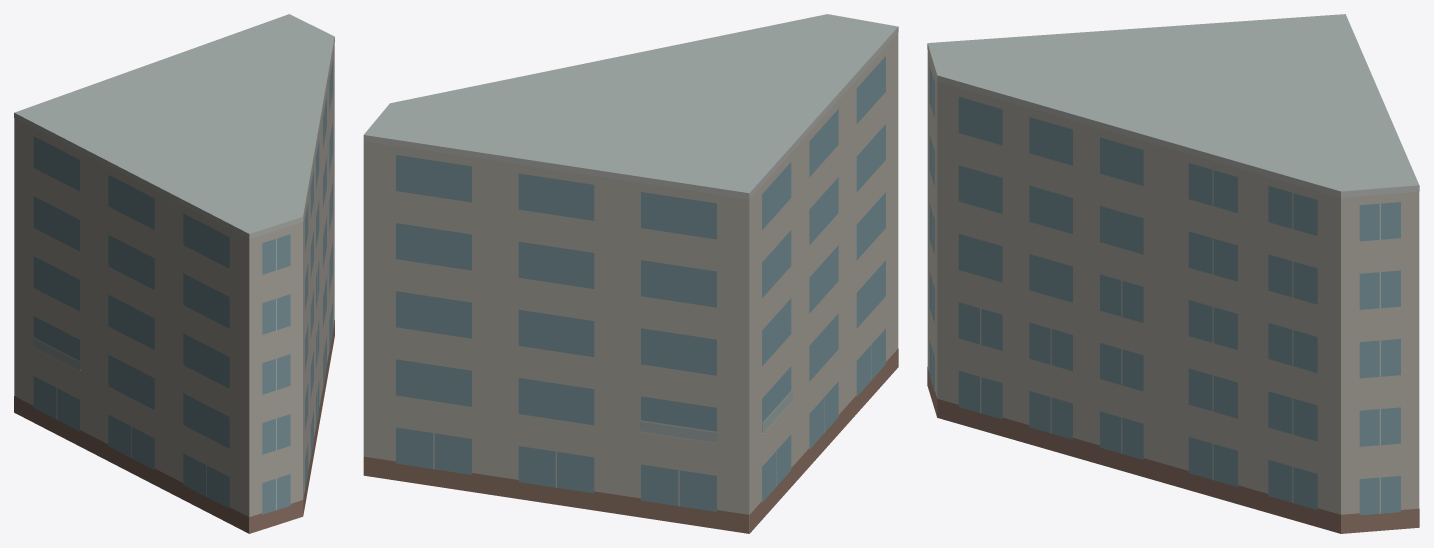
File: survey-upis-32935696.glb
3 views of the same model, side by side, from view 1: azimuth 30°, elevation 25°; view 2: azimuth 150°, elevation 25°; view 3: azimuth 270°, elevation 25° (orthographic). The views are drawn at different scales.
Parts seen in each view (by area): view 1: survey-upis-32935696.tmp; view 2: survey-upis-32935696.tmp; view 3: survey-upis-32935696.tmp.
Part boxes in pixels (x1,y1,x2,y2): survey-upis-32935696.tmp: (14, 14, 334, 533); survey-upis-32935696.tmp: (363, 14, 898, 533); survey-upis-32935696.tmp: (927, 14, 1419, 533).
Size of the model in its own units: 14.91 by 13.4 by 17.46.
